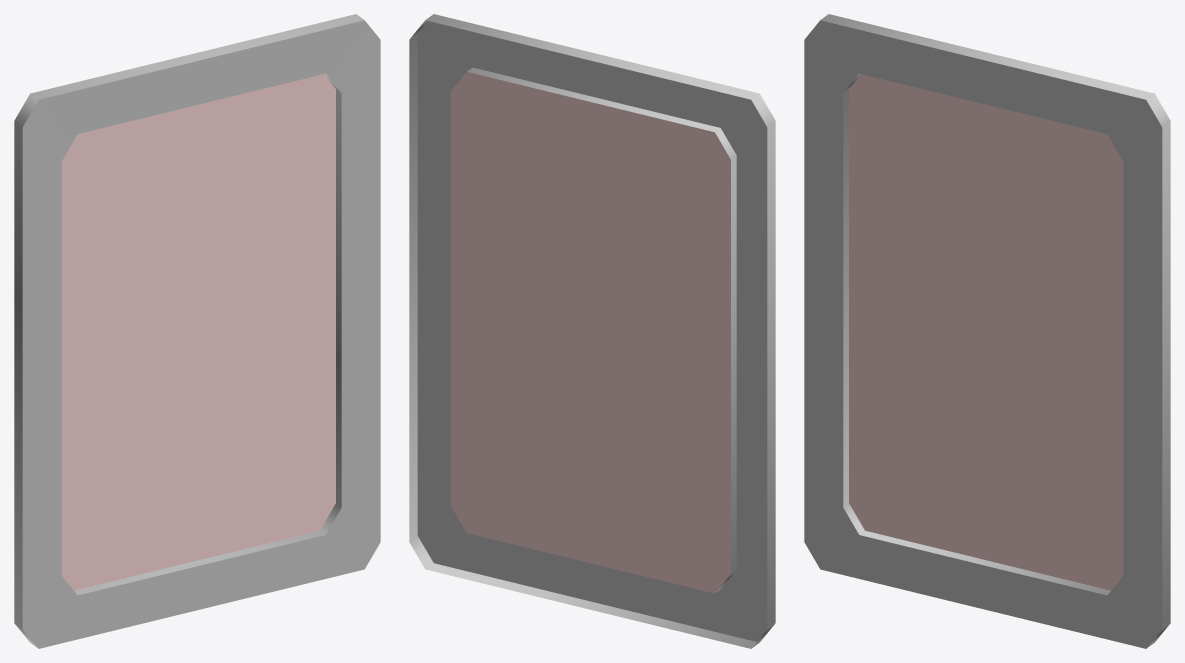
Rendered from painting_tall.obj.
3 renders of one model, left to right at view 1: azimuth 30°, elevation 25°; view 2: azimuth 150°, elevation 25°; view 3: azimuth 330°, elevation 25°, orthographic.
Parts seen in each view (by area): view 1: Plane.008; view 2: Plane.008; view 3: Plane.008.
Boxes of the visible parts, x1,y1,x2,y2 form: Plane.008: (14, 14, 380, 648); Plane.008: (409, 14, 775, 648); Plane.008: (804, 14, 1170, 648).
Bounding box in the file's own units: 0.8378 × 1.23 × 0.0345.
